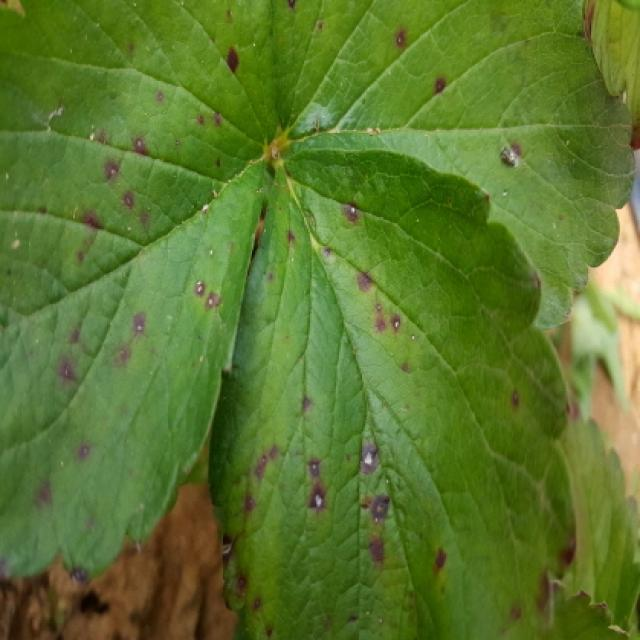Leaf Spot: (206, 147, 579, 638), (2, 0, 281, 585), (270, 0, 638, 326)
